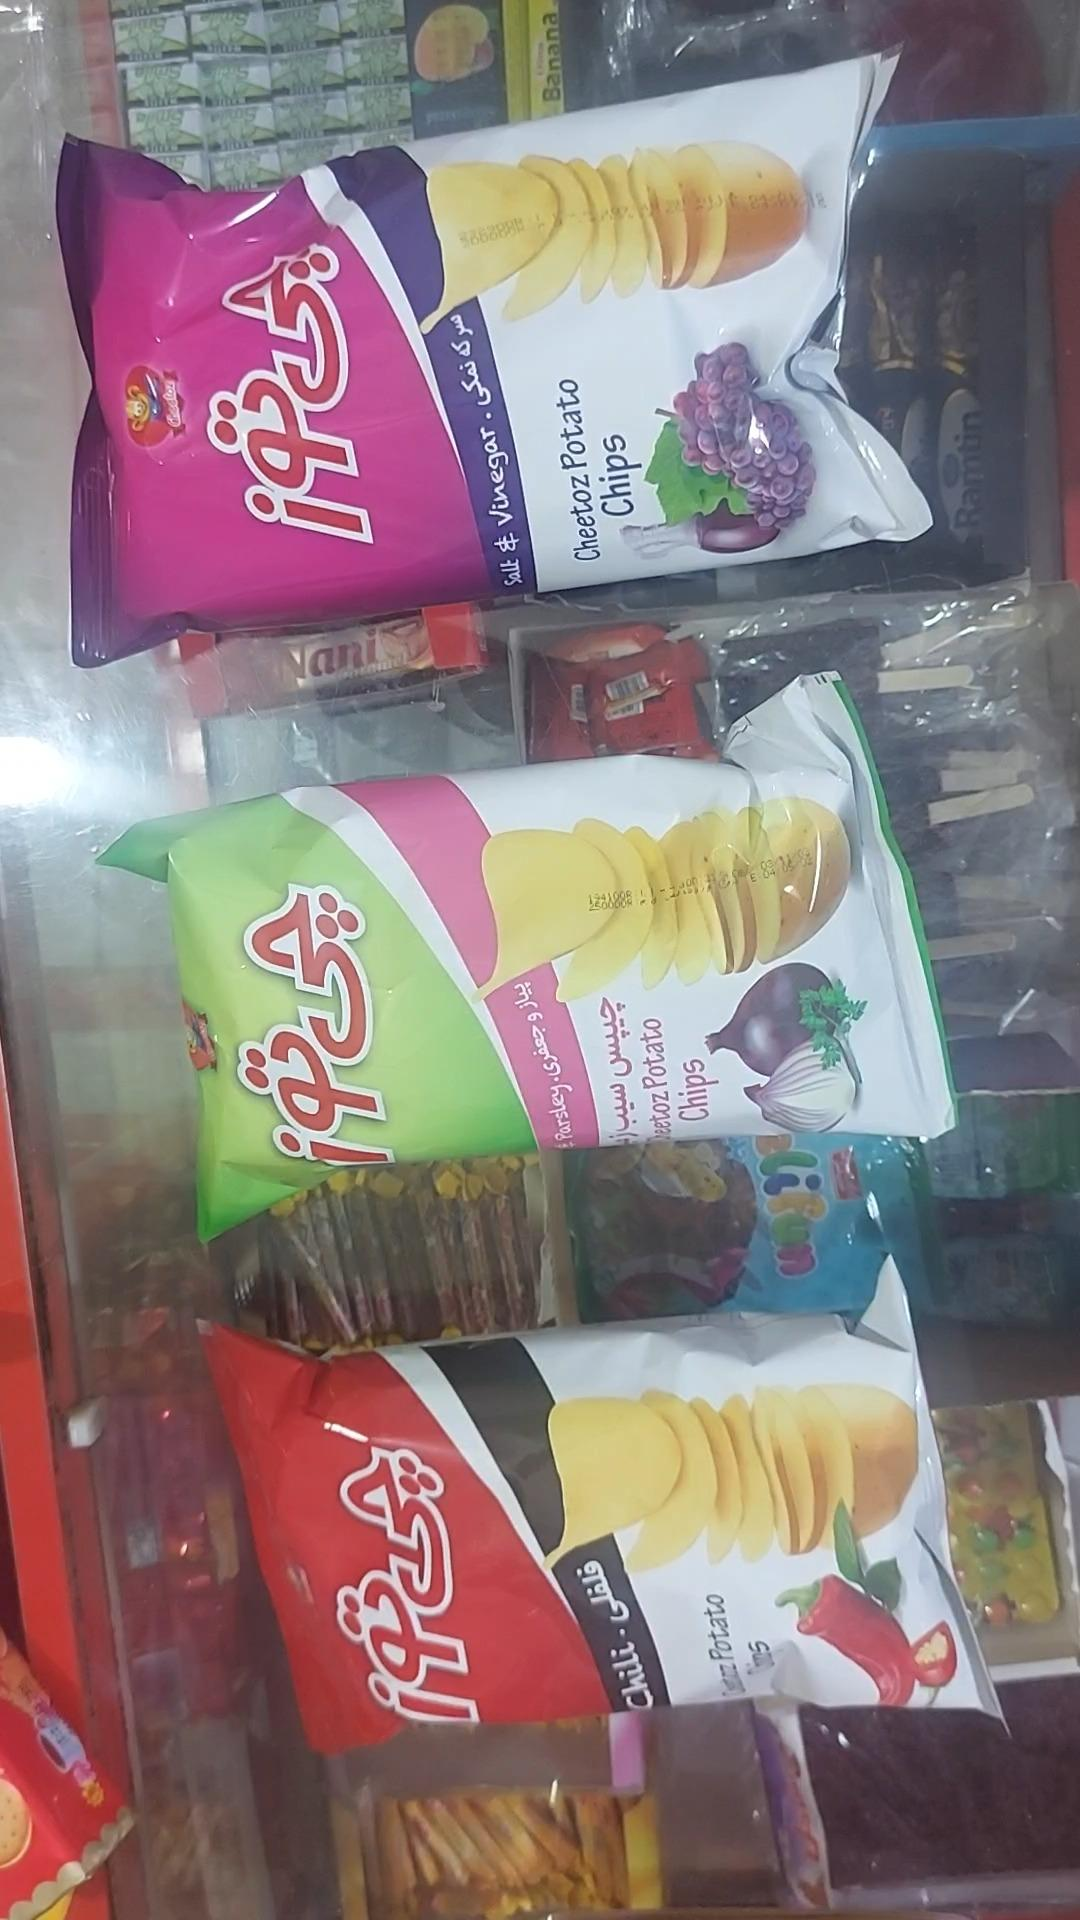Cheetoz chili chips: (204, 1262, 1004, 1758)
Cheetoz onion and parsley chips: (94, 673, 955, 1245)
Cheetoz vinegar chips: (54, 50, 934, 671)
